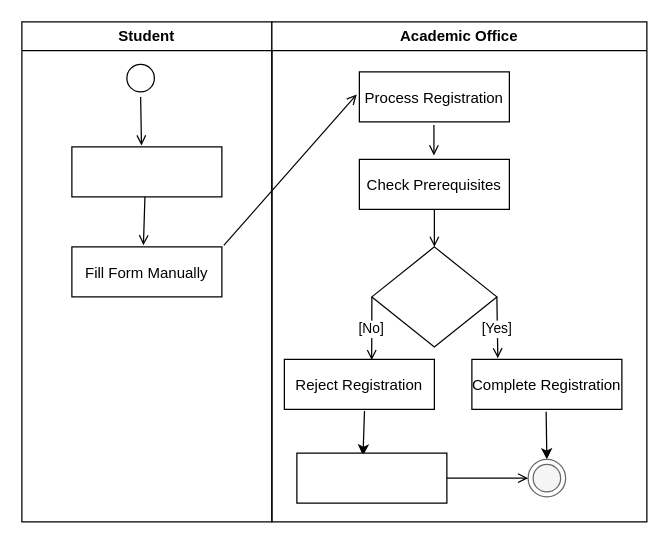
The diagram is 669 pixels wide and 544 high, and some of its shapes have lost their labels. Here are the shapes that lost their labels. From the top down, the centre of each, then its label:
At point 146,171: "Get Physical Form".
At point 434,296: "Prerequisites Met?".
At point 371,477: "Inform student".
